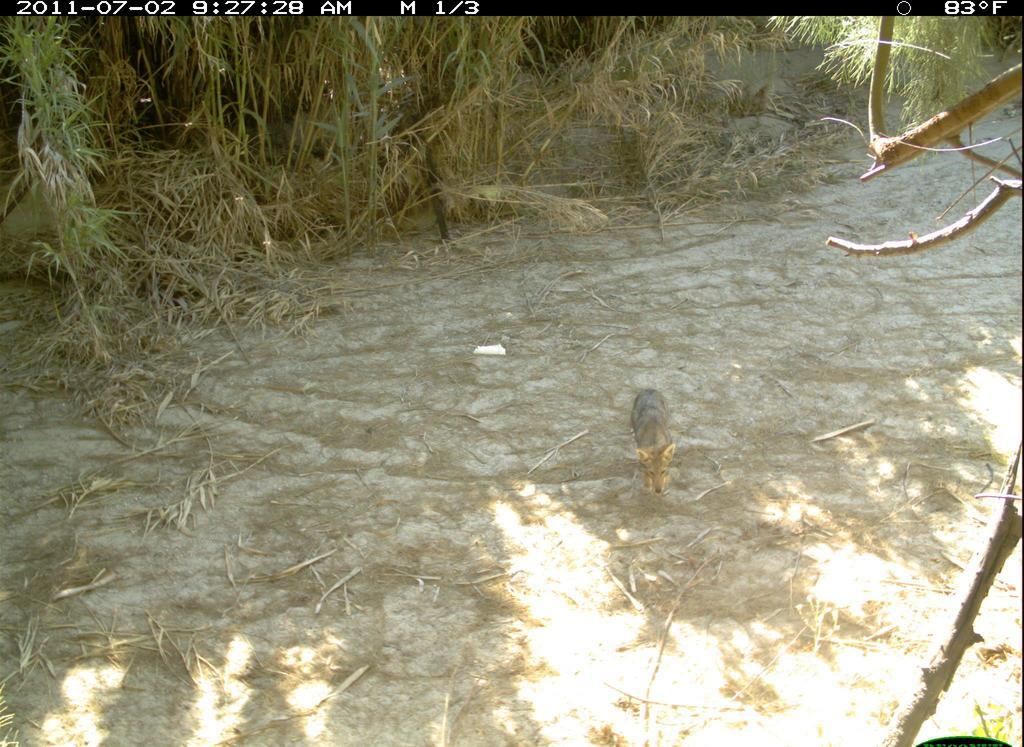coyote: (619, 361, 696, 516)
